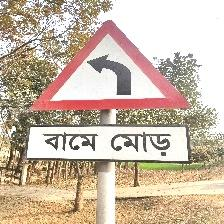Left-Turn: (28, 20, 192, 170)
